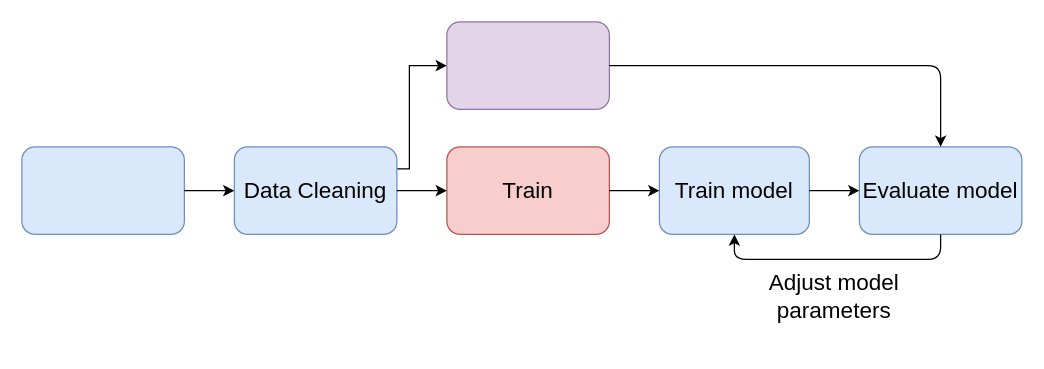
Image size: 1044x369. Some labels were removed from this diagram. The box of each missing label's shape, as (x1, y1, x2, y2) in pixels:
Data Acquisition: (21, 146, 184, 234)
Test: (446, 21, 609, 109)
